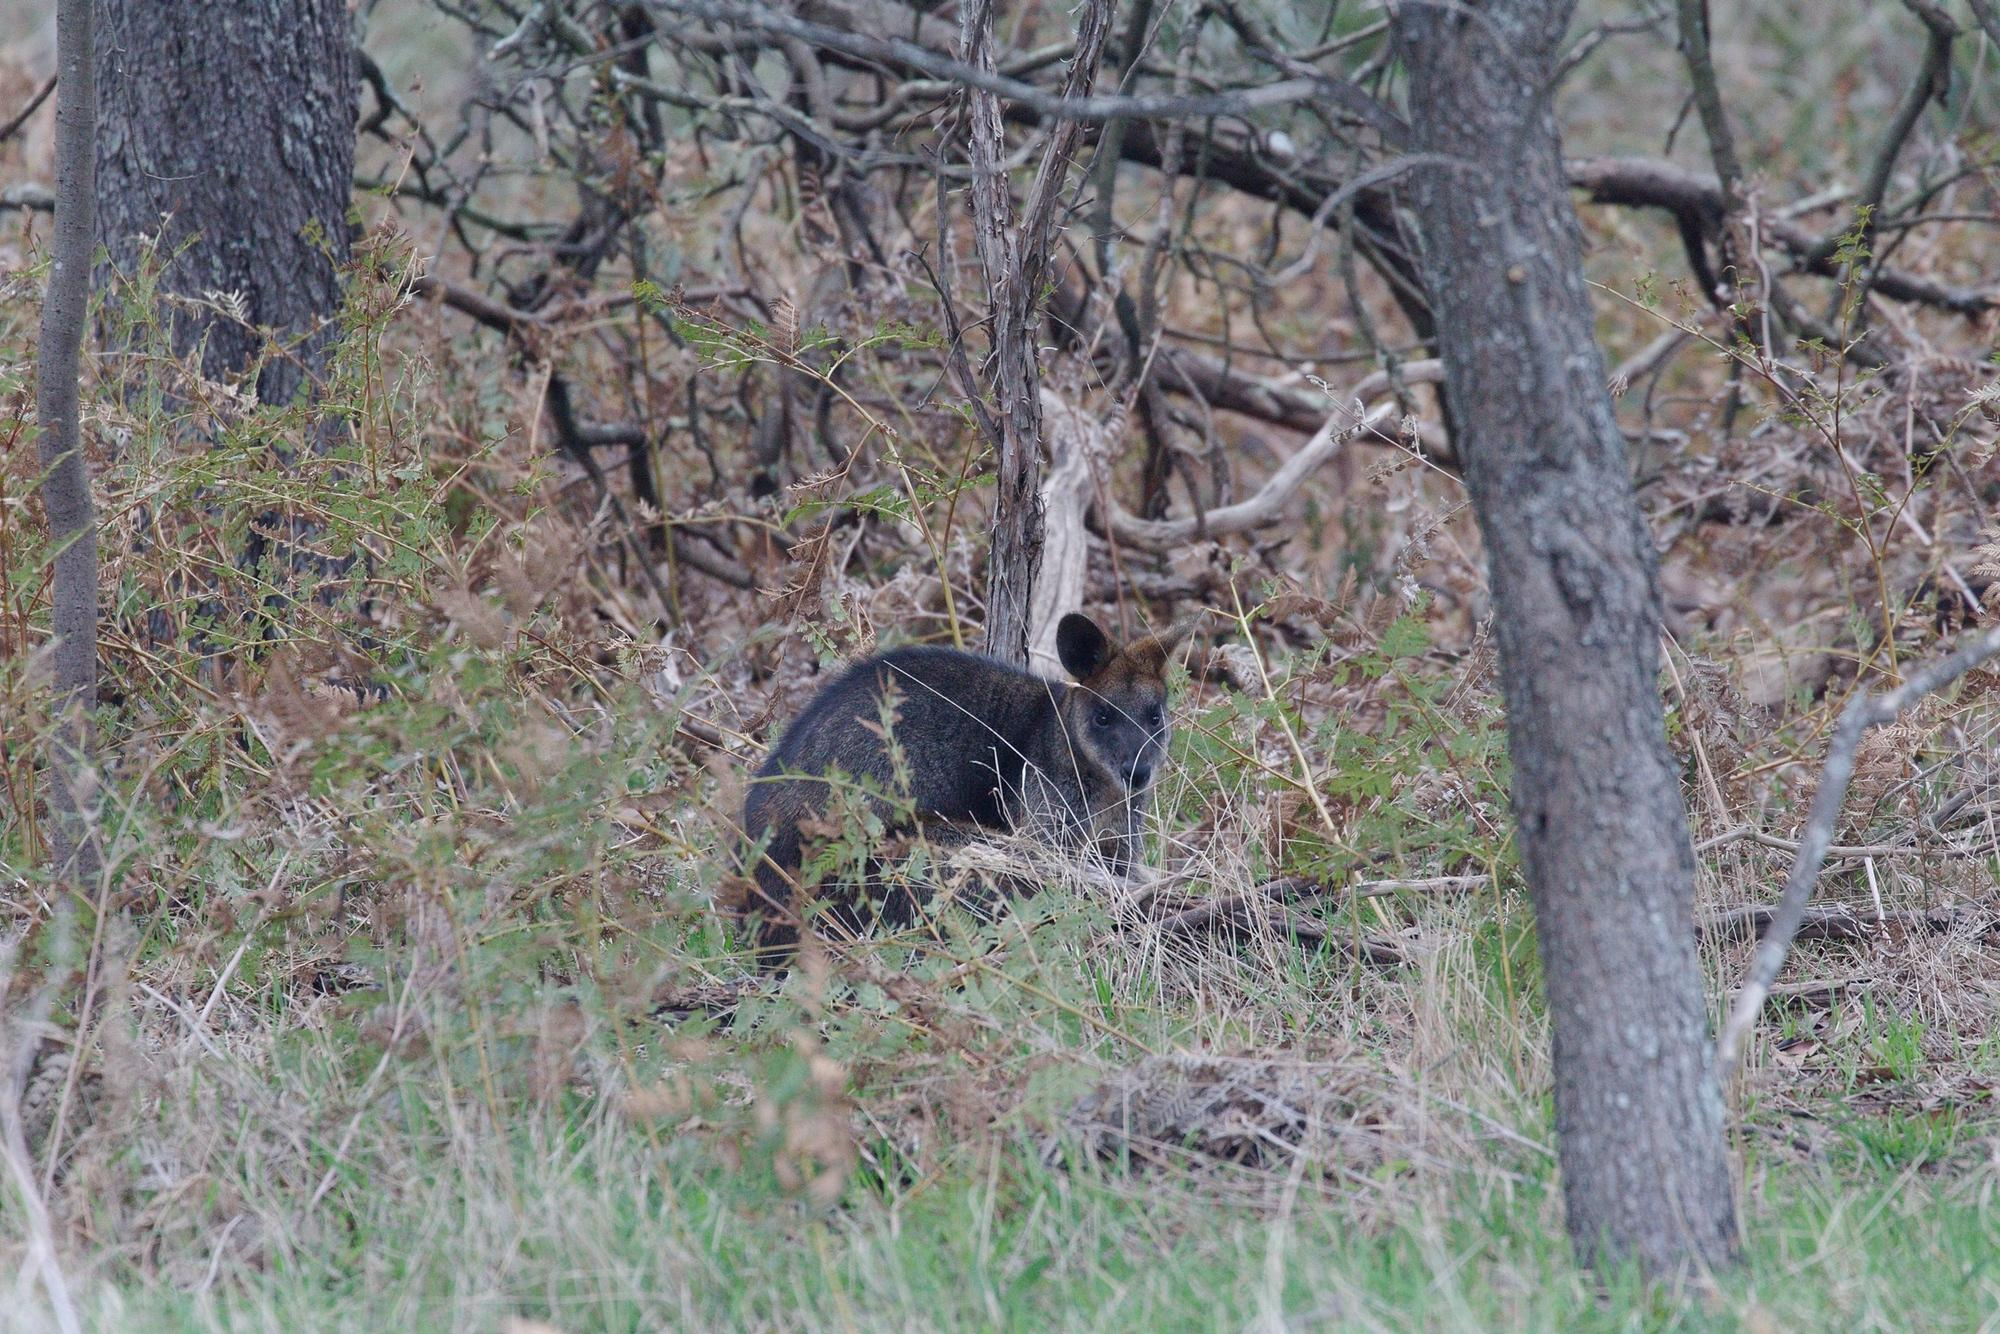Swamp wallaby: (626, 610, 1217, 1030)
